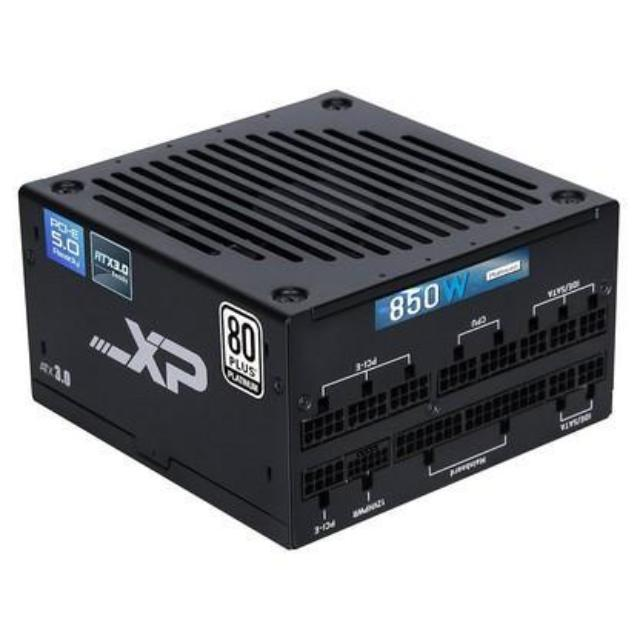PSU: (10, 82, 625, 550)
